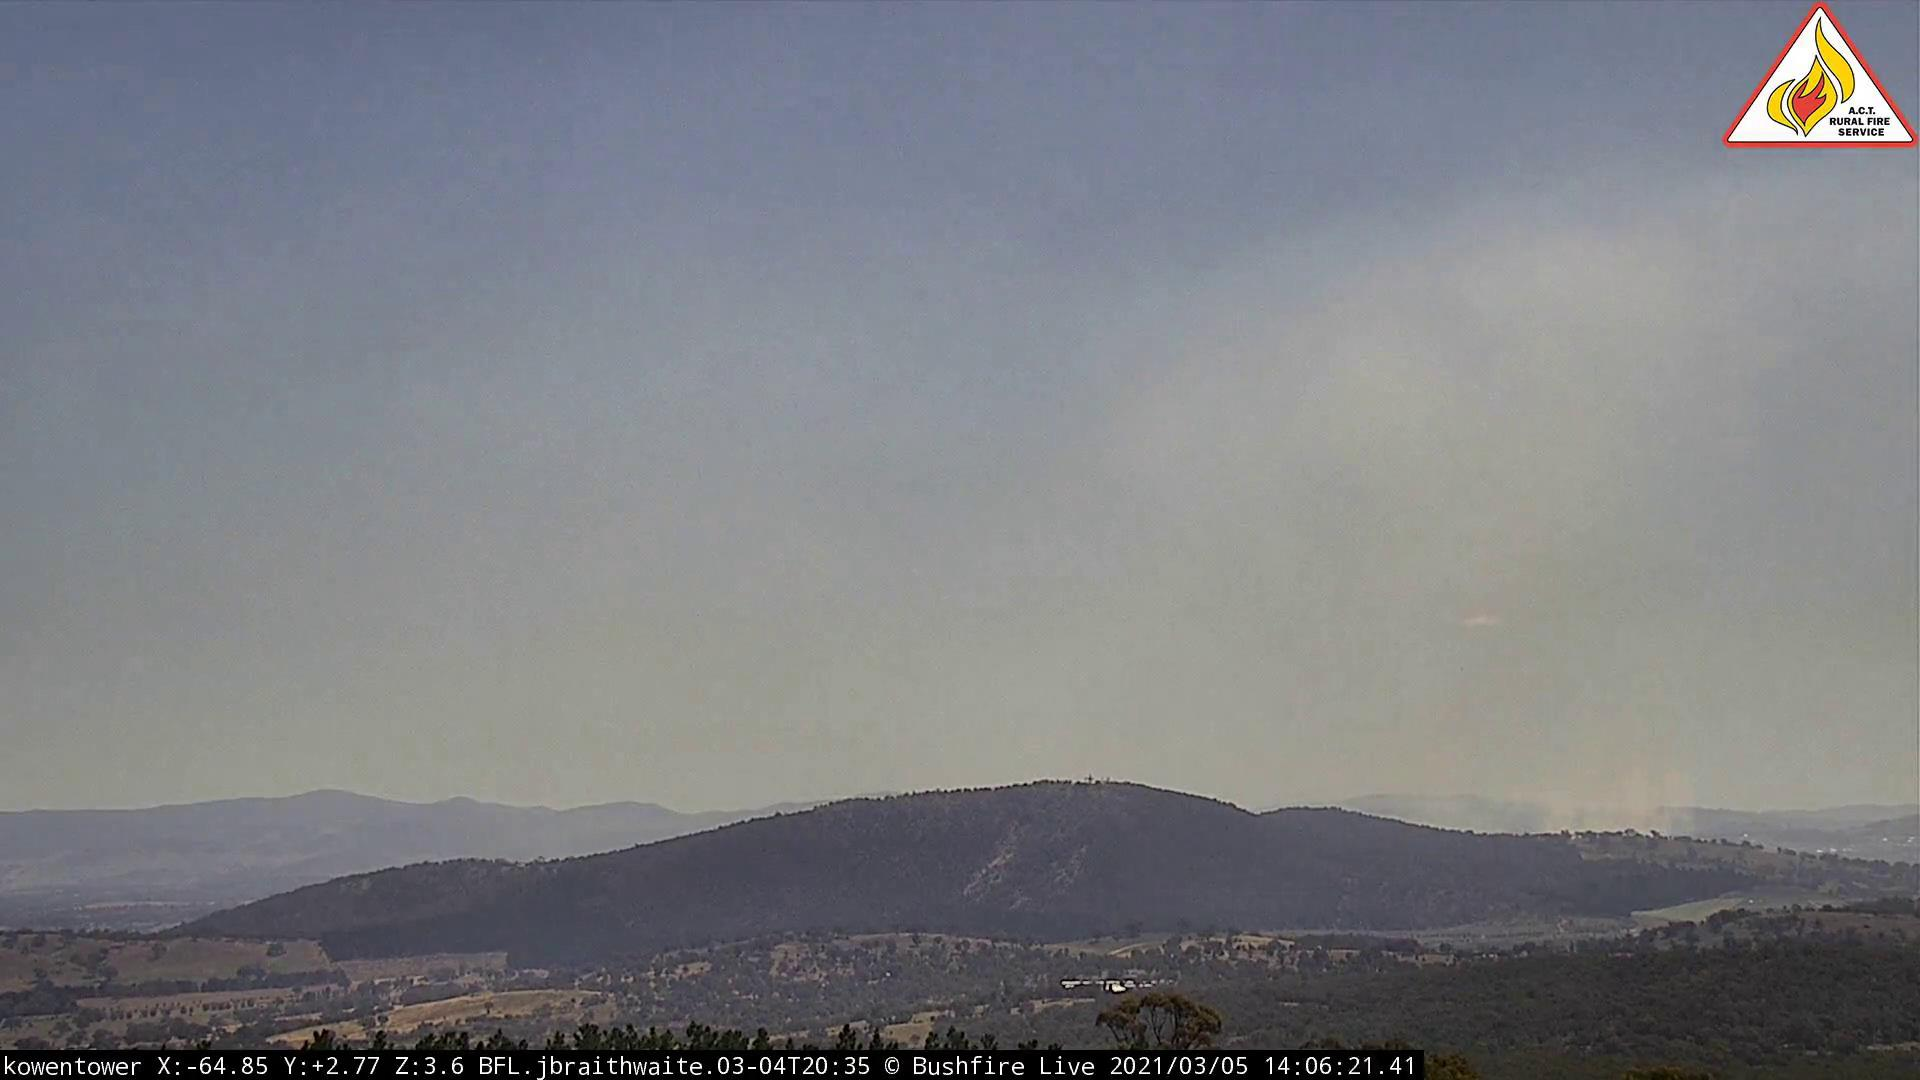Smoke: (1385, 622, 1697, 837)
